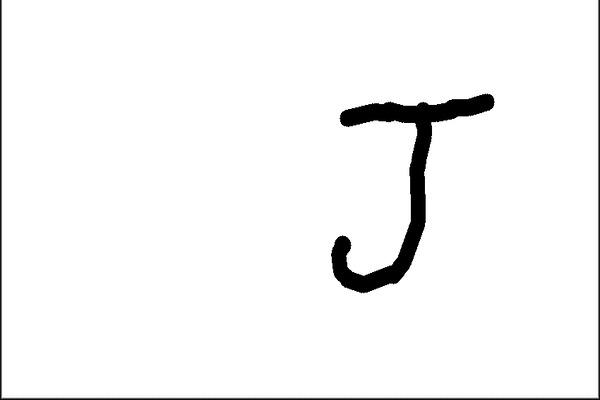J: (322, 92, 498, 292)
